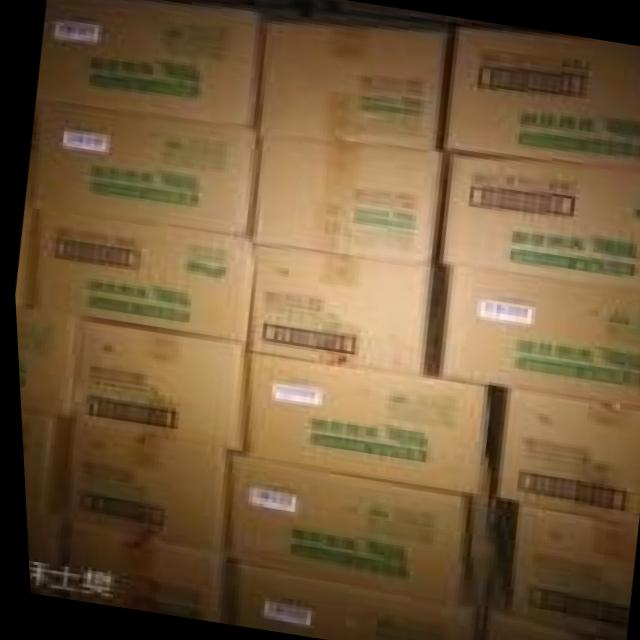box: (220, 452, 495, 613), (241, 353, 491, 497), (12, 204, 251, 341), (23, 98, 256, 233), (434, 265, 640, 409), (35, 0, 264, 126), (436, 151, 640, 292), (441, 30, 640, 169), (241, 243, 447, 377), (250, 136, 445, 265), (255, 23, 443, 150), (64, 320, 242, 451), (67, 427, 234, 556), (491, 391, 640, 522), (55, 527, 230, 625), (508, 504, 633, 640), (229, 579, 465, 640), (12, 302, 77, 418), (17, 414, 60, 532), (478, 613, 616, 640)
